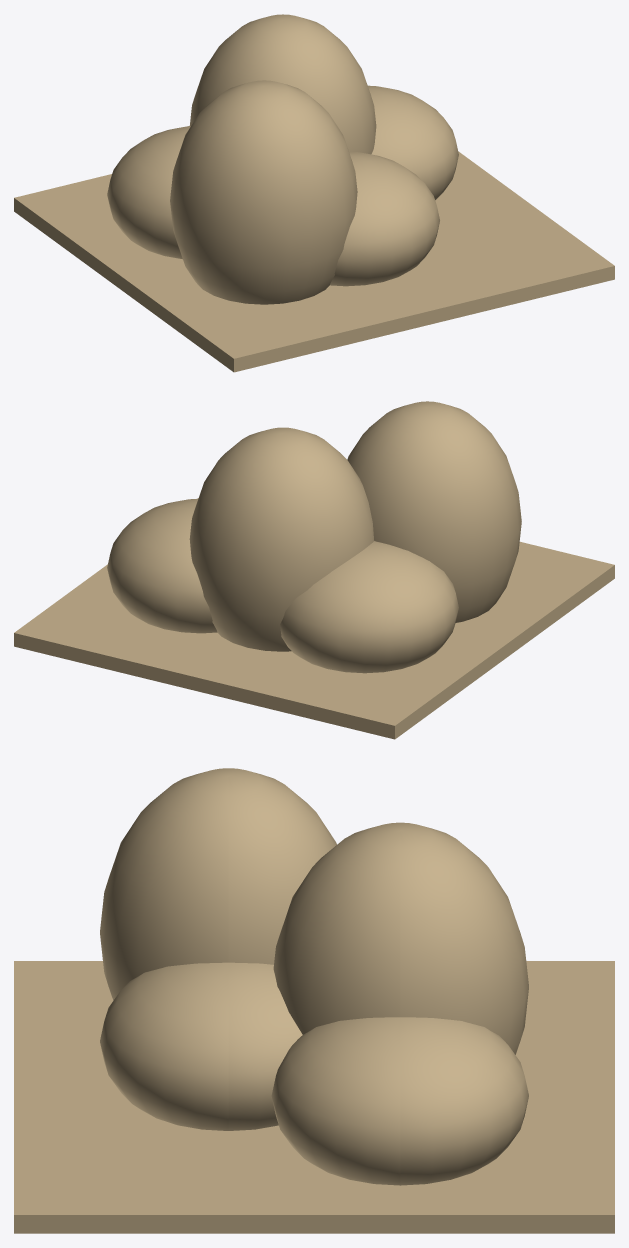
The model's file is deserto.glb.
3 views of the same model, one above another, from view 1: azimuth 30°, elevation 25°; view 2: azimuth 150°, elevation 25°; view 3: azimuth 270°, elevation 25° (orthographic). The views are drawn at different scales.
Visible parts, largest first — view 1: Base ilustrativa, Relevo ilustrativo.003, Relevo ilustrativo.001, Relevo ilustrativo.004, Relevo ilustrativo, Relevo ilustrativo.002; view 2: Base ilustrativa, Relevo ilustrativo.001, Relevo ilustrativo.003, Relevo ilustrativo, Relevo ilustrativo.002; view 3: Base ilustrativa, Relevo ilustrativo.001, Relevo ilustrativo.002, Relevo ilustrativo.003, Relevo ilustrativo.004.
Part boxes in pixels (box(x1,y1,x2,y2)): Base ilustrativa: box(14, 151, 614, 372); Relevo ilustrativo.003: box(170, 80, 357, 304); Relevo ilustrativo.001: box(189, 14, 376, 154); Relevo ilustrativo.004: box(330, 151, 439, 286); Relevo ilustrativo: box(107, 126, 190, 259); Relevo ilustrativo.002: box(368, 85, 458, 199); Base ilustrativa: box(14, 498, 614, 739); Relevo ilustrativo.001: box(189, 427, 374, 651); Relevo ilustrativo.003: box(347, 401, 521, 622); Relevo ilustrativo: box(280, 541, 458, 673); Relevo ilustrativo.002: box(107, 498, 217, 633); Base ilustrativa: box(14, 961, 614, 1233); Relevo ilustrativo.001: box(273, 822, 528, 1054); Relevo ilustrativo.002: box(271, 1017, 528, 1185); Relevo ilustrativo.003: box(100, 768, 336, 1000); Relevo ilustrativo.004: box(100, 962, 302, 1130).
Bounding box in the file's own units: 7 × 4 × 7.
